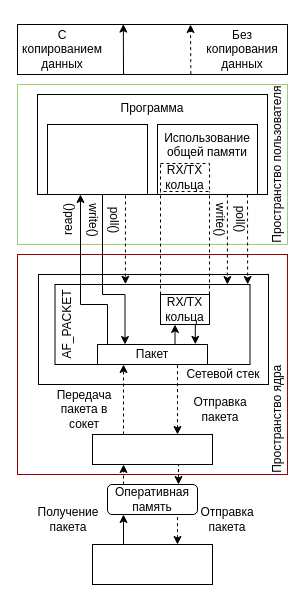
This 305x603 diagram has some shape labels left out. The centre of each missing label's shape, as x and y in pixels:
Драйвер: the point at 152,449
Использование системных вызовов: the point at 97,159
Сетевая карта: the point at 152,564
